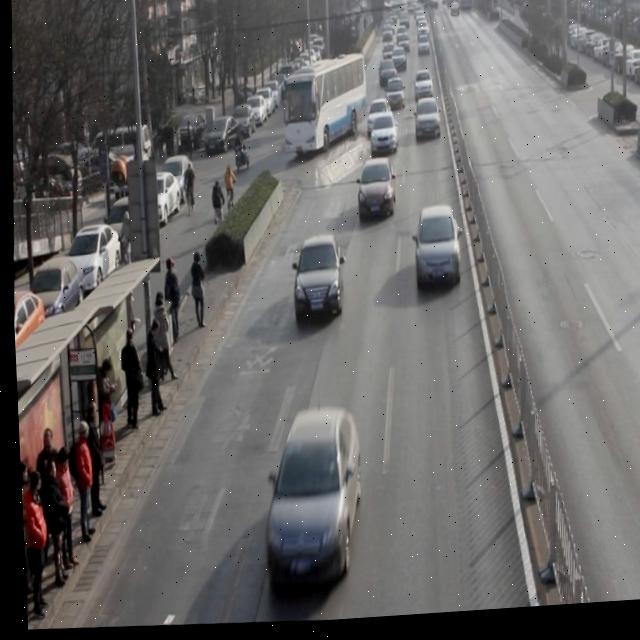car: (255, 409, 362, 590), (287, 236, 344, 325), (410, 208, 462, 295), (354, 161, 396, 225), (367, 116, 398, 162), (411, 101, 441, 147), (364, 101, 393, 143), (382, 80, 405, 117), (410, 73, 433, 107)
van: (278, 55, 367, 160)
